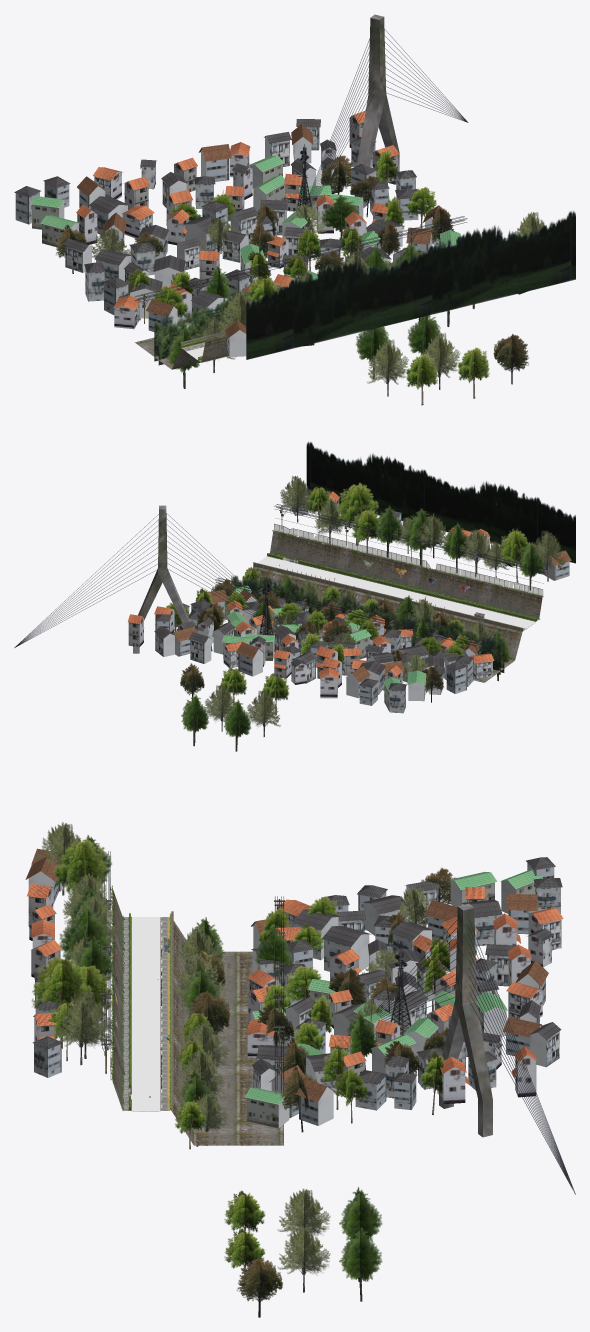
The model's file is overlook.glb.
3 renders of one model, top to bottom at view 1: azimuth 30°, elevation 25°; view 2: azimuth 150°, elevation 25°; view 3: azimuth 270°, elevation 25°, orthographic. The views are drawn at different scales.
Visible parts, largest first — view 1: geo_buildings, treeline, geo_trees, tree, overlook_bridge, overlook_tree, overlook_treeline, powerline_wire_001, overlook_hill, restrain_wall; view 2: geo_buildings, tree, treeline, geo_trees, restrain_wall, overlook_tree, overlook_bridge, overlook_treeline, water_surface, overlook_hill, fence, powerline_wire (+4 smaller); view 3: geo_buildings, tree, geo_trees, overlook_tree, overlook_hill, overlook_bridge, water_surface, road, restrain_wall, centella, powerline_wire_001, radio_tower (+2 smaller).
Boxes of the visible parts, x1,y1,x2,y2 form: geo_buildings: (14, 111, 527, 357); treeline: (246, 211, 575, 359); geo_trees: (55, 149, 454, 320); tree: (217, 212, 546, 405); overlook_bridge: (301, 14, 468, 215); overlook_tree: (167, 310, 528, 398); overlook_treeline: (154, 242, 444, 365); powerline_wire_001: (135, 216, 467, 302); overlook_hill: (135, 337, 200, 369); restrain_wall: (201, 336, 228, 362); geo_buildings: (128, 491, 571, 713); tree: (223, 476, 565, 751); treeline: (306, 441, 575, 563); geo_trees: (166, 578, 470, 702); restrain_wall: (270, 531, 542, 618); overlook_tree: (180, 567, 510, 746); overlook_bridge: (14, 505, 286, 653); overlook_treeline: (231, 575, 504, 674); water_surface: (258, 556, 535, 628); overlook_hill: (223, 566, 522, 682); fence: (274, 523, 542, 595); powerline_wire: (274, 504, 545, 583); geo_buildings: (25, 848, 563, 1128); tree: (31, 822, 382, 1241); geo_trees: (255, 867, 456, 1132); overlook_tree: (173, 917, 382, 1317); overlook_hill: (171, 921, 283, 1145); overlook_bridge: (374, 903, 575, 1194); water_surface: (131, 917, 160, 1110); road: (122, 917, 170, 1111); restrain_wall: (112, 889, 125, 1109); centella: (110, 885, 171, 1110); powerline_wire_001: (275, 896, 283, 1094); radio_tower: (390, 948, 411, 1035).
Size of the model in its own units: 292 by 192 by 250.
52 materials, 49 textured.
